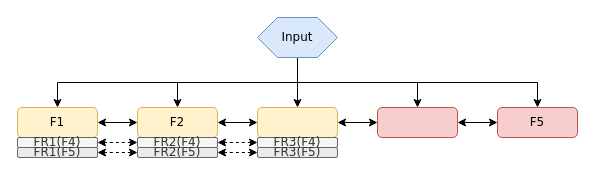
Some shapes in this 595 by 179 pixel diagram are drawn without their labels. Here are the shapes that lost their labels. From the top down, the centre of each, then its label:
the point at 297,122: F3
the point at 417,122: F4
